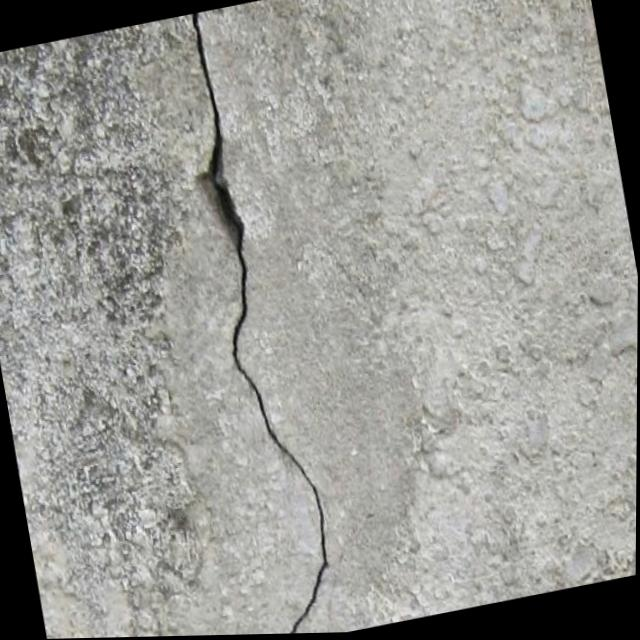Crack: (154, 2, 360, 637)
